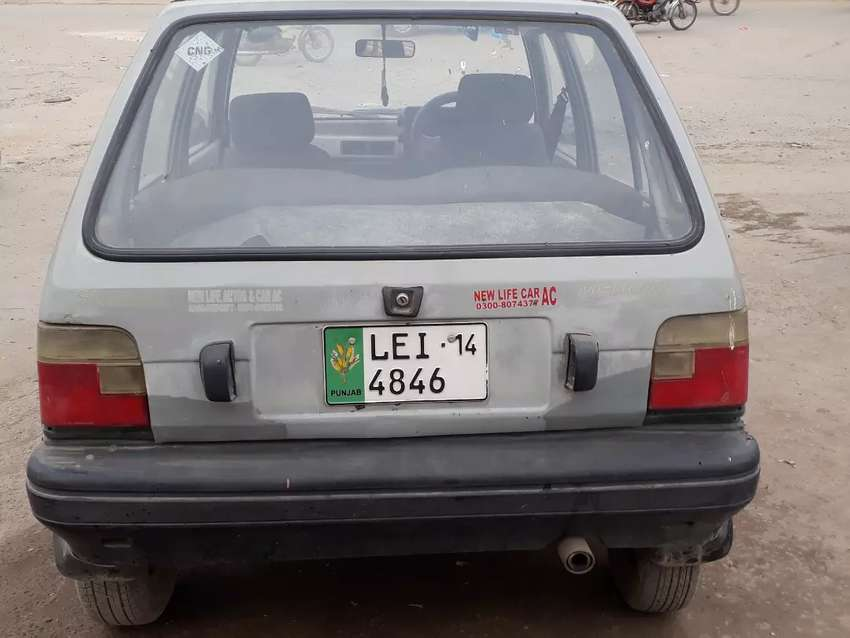plate: (319, 319, 491, 409)
